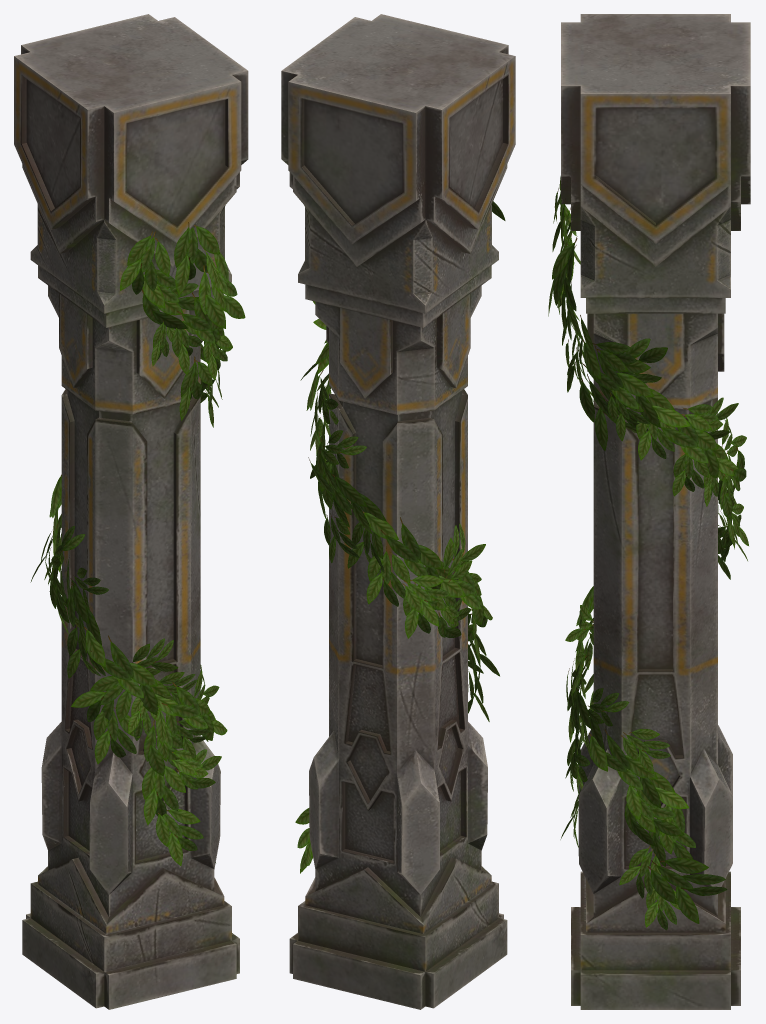
File: decorative.gltf
The picture shows the model from 3 angles, left to right: view 1: azimuth 30°, elevation 25°; view 2: azimuth 150°, elevation 25°; view 3: azimuth 270°, elevation 25°; orthographic projection. The views are drawn at different scales.
Visible parts, largest first — view 1: Pillar; view 2: Pillar; view 3: Pillar, Leaf_VariantB11, Leaf_VariantB5, Leaf_VariantB10.
Part boxes in pixels (x1,y1,x2,y2): Pillar: [14, 14, 248, 1009]; Pillar: [281, 14, 515, 1009]; Pillar: [561, 14, 750, 1009]; Leaf_VariantB11: [660, 857, 708, 873]; Leaf_VariantB5: [617, 372, 654, 397]; Leaf_VariantB10: [675, 886, 699, 923].
Bounding box in the file's own units: 1.05 × 5.2 × 1.06.
Materials: 2 (2 with a texture image).
